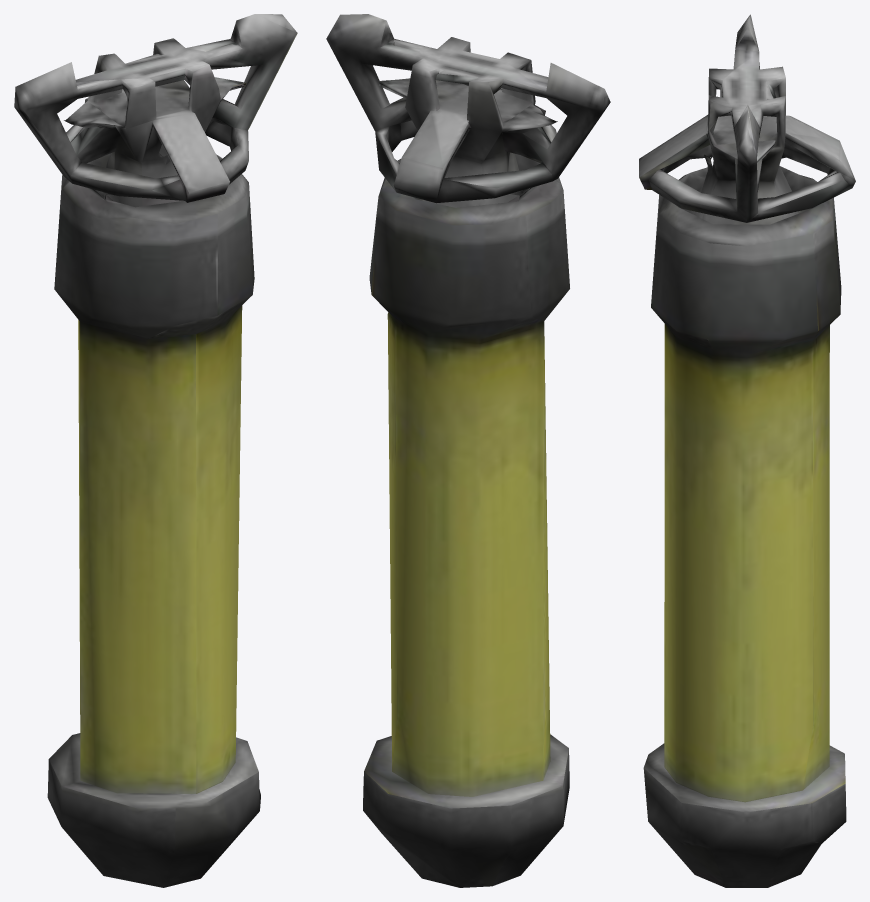
Rendered from fuse.glb.
3 renders of one model, left to right at view 1: azimuth 30°, elevation 25°; view 2: azimuth 150°, elevation 25°; view 3: azimuth 270°, elevation 25°, orthographic. The views are drawn at different scales.
Visible parts, largest first — view 1: fuse2; view 2: fuse2; view 3: fuse2.
Part boxes in pixels (x1,y1,x2,y2): fuse2: (14,14,297,887); fuse2: (326,14,610,887); fuse2: (639,14,855,887).
Size of the model in its own units: 0.3488 by 0.9976 by 0.2445.
1 material, 1 textured.
